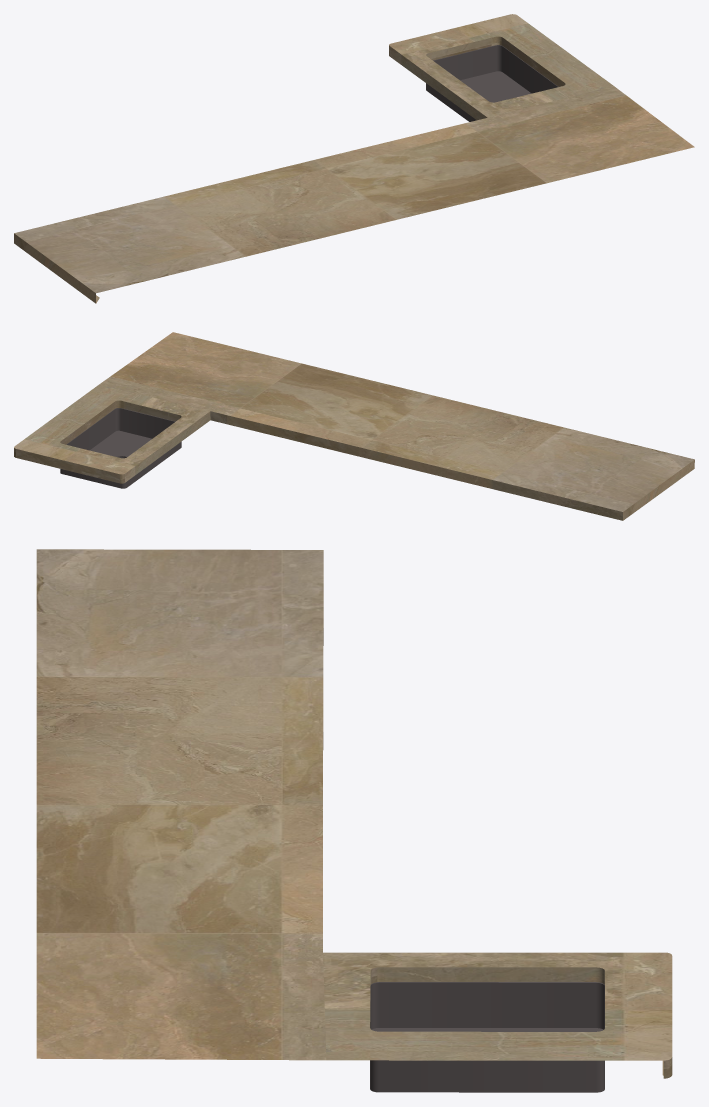
3 renders of one model, top to bottom at view 1: azimuth 30°, elevation 25°; view 2: azimuth 150°, elevation 25°; view 3: azimuth 270°, elevation 25°, orthographic. The views are drawn at different scales.
Visible parts, largest first — view 1: Countertop V1; view 2: Countertop V1; view 3: Countertop V1.
Boxes of the visible parts, x1,y1,x2,y2 form: Countertop V1: (14, 14, 694, 303); Countertop V1: (14, 332, 694, 520); Countertop V1: (36, 549, 672, 1092).
Size of the model in its own units: 3.09 by 0.2039 by 1.62.
2 materials, 2 textured.
